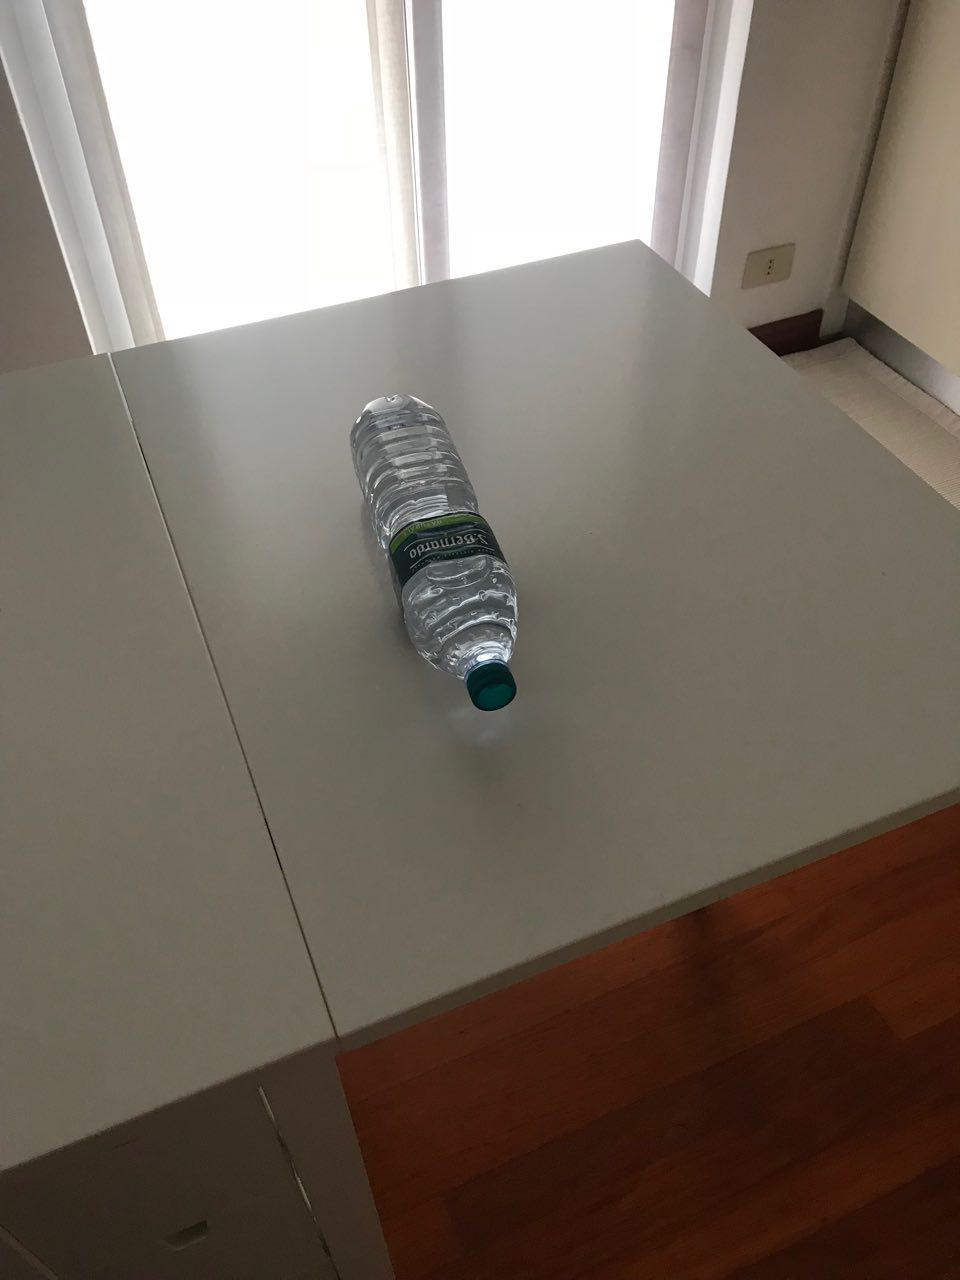san_bernardo: (349, 393, 519, 711)
